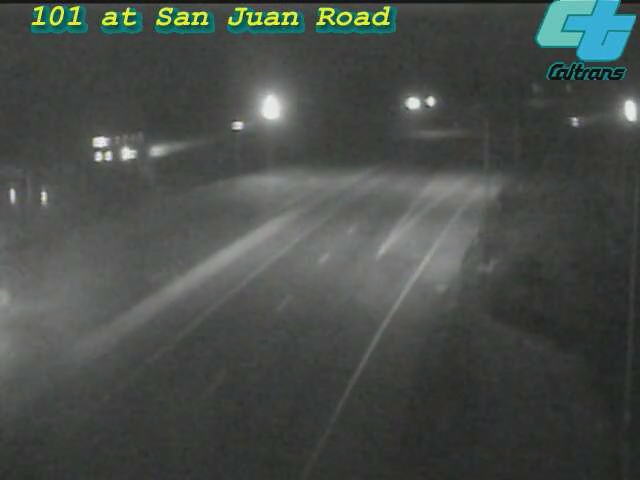vehicle: (1, 268, 42, 348), (605, 86, 640, 136)
